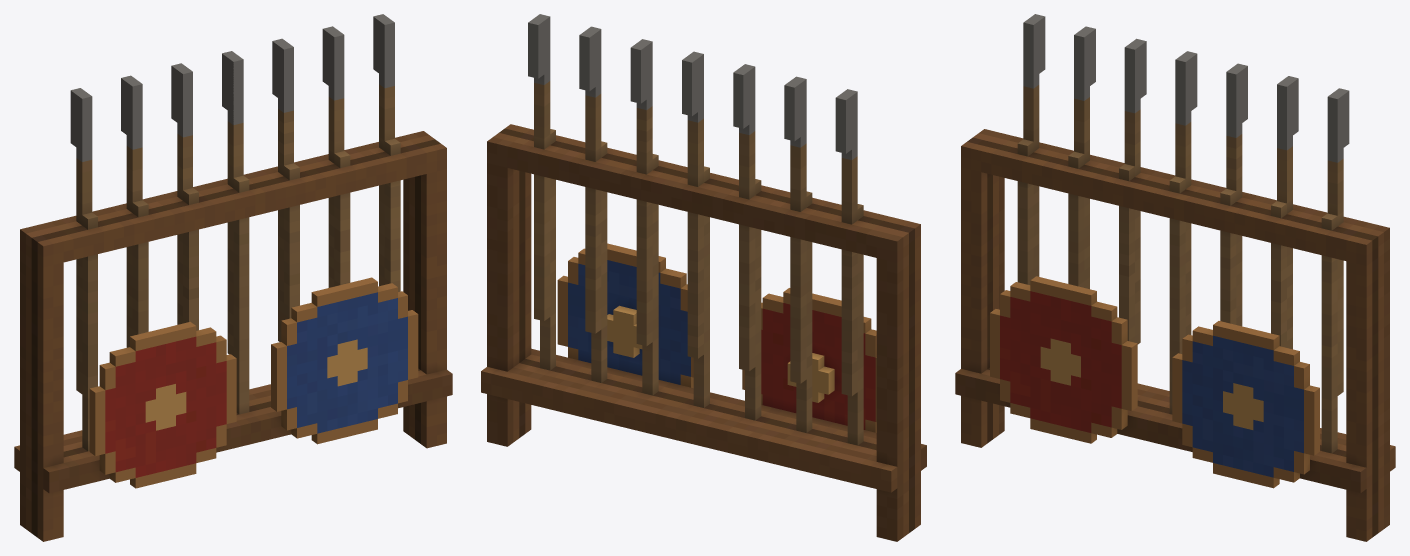
The model's file is weapon_rack.glb.
The picture shows the model from 3 angles, left to right: view 1: azimuth 30°, elevation 25°; view 2: azimuth 150°, elevation 25°; view 3: azimuth 330°, elevation 25°; orthographic projection.
Visible parts, largest first — view 1: weapon_rack; view 2: weapon_rack; view 3: weapon_rack.
Boxes of the visible parts, x1,y1,x2,y2 form: weapon_rack: [14, 14, 452, 541]; weapon_rack: [481, 14, 926, 541]; weapon_rack: [955, 14, 1395, 541].
Size of the model in its own units: 2 by 2 by 0.35.
